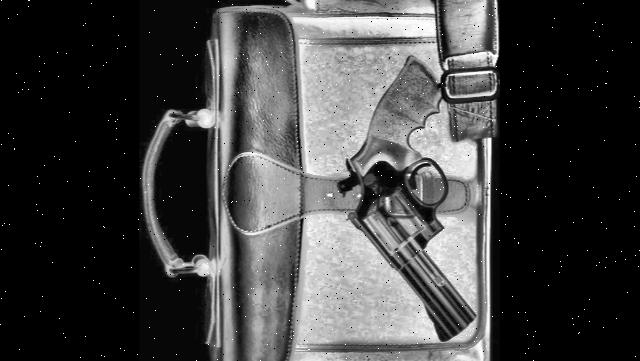Gun: (338, 51, 477, 344)
